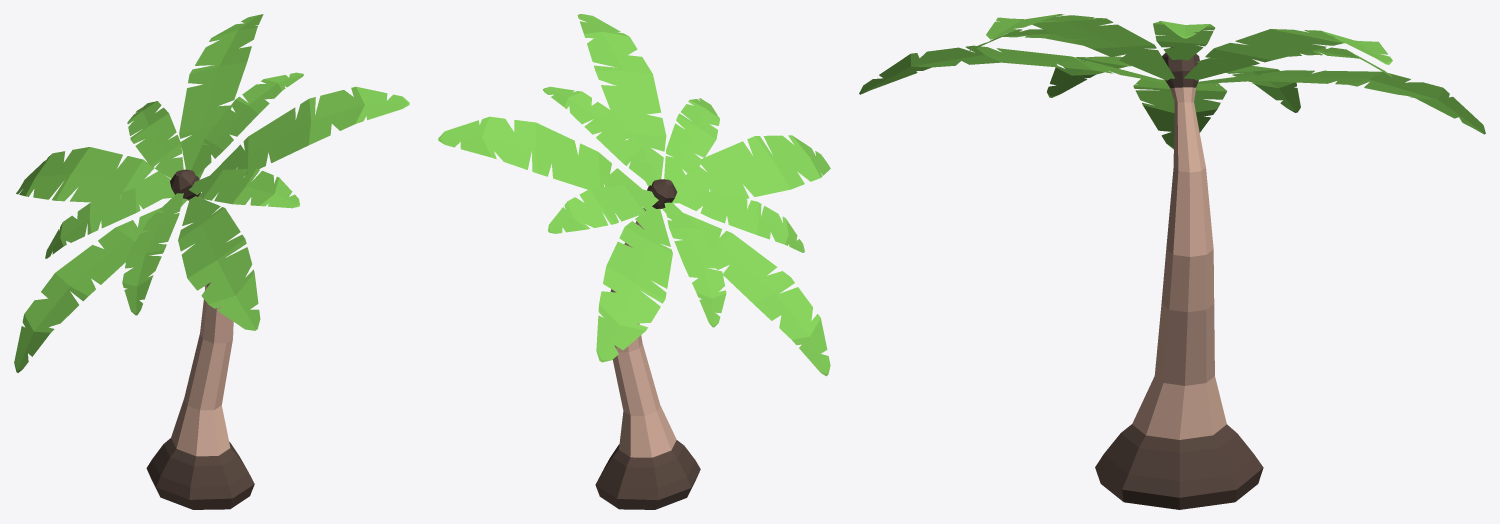
Rendered from PalmTree2.fbx.
3 views of the same model, side by side, from view 1: azimuth 30°, elevation 25°; view 2: azimuth 150°, elevation 25°; view 3: azimuth 270°, elevation 25° (orthographic). The views are drawn at different scales.
Visible parts, largest first — view 1: Plane.001, Cylinder; view 2: Plane.001, Cylinder; view 3: Cylinder, Plane.001.
Part boxes in pixels (x1,y1,x2,y2): Plane.001: (14, 14, 409, 372); Cylinder: (146, 169, 254, 509); Plane.001: (438, 14, 830, 376); Cylinder: (595, 179, 700, 509); Cylinder: (1095, 47, 1263, 509); Plane.001: (859, 14, 1485, 149).
Size of the model in its own units: 580 by 698 by 732.
